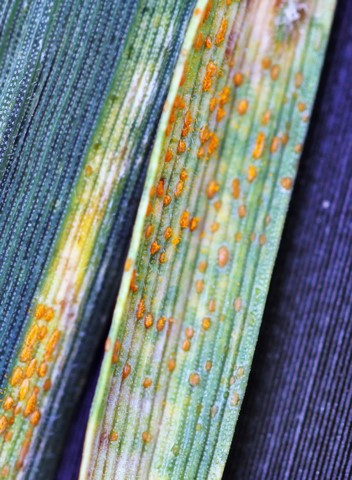Leaf Rust: (114, 35, 291, 372)
